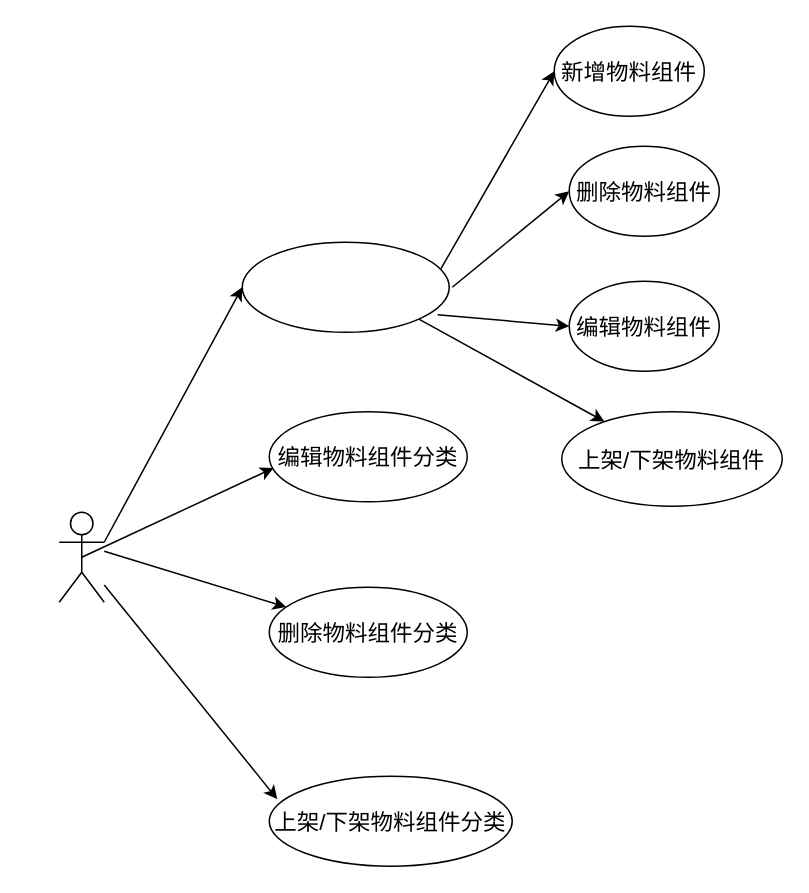
The diagram is 809 pixels wide and 893 high, and some of its shapes have lost their labels. The shapes that lost their labels are listed below. From the top down, each one's centre as x and y in pixels, then its label:
At (345,286): "新增物料组件分类".
At (81,556): "系统管理员".
